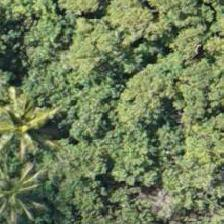coconut_tree: (0, 70, 54, 160), (0, 137, 53, 223)
